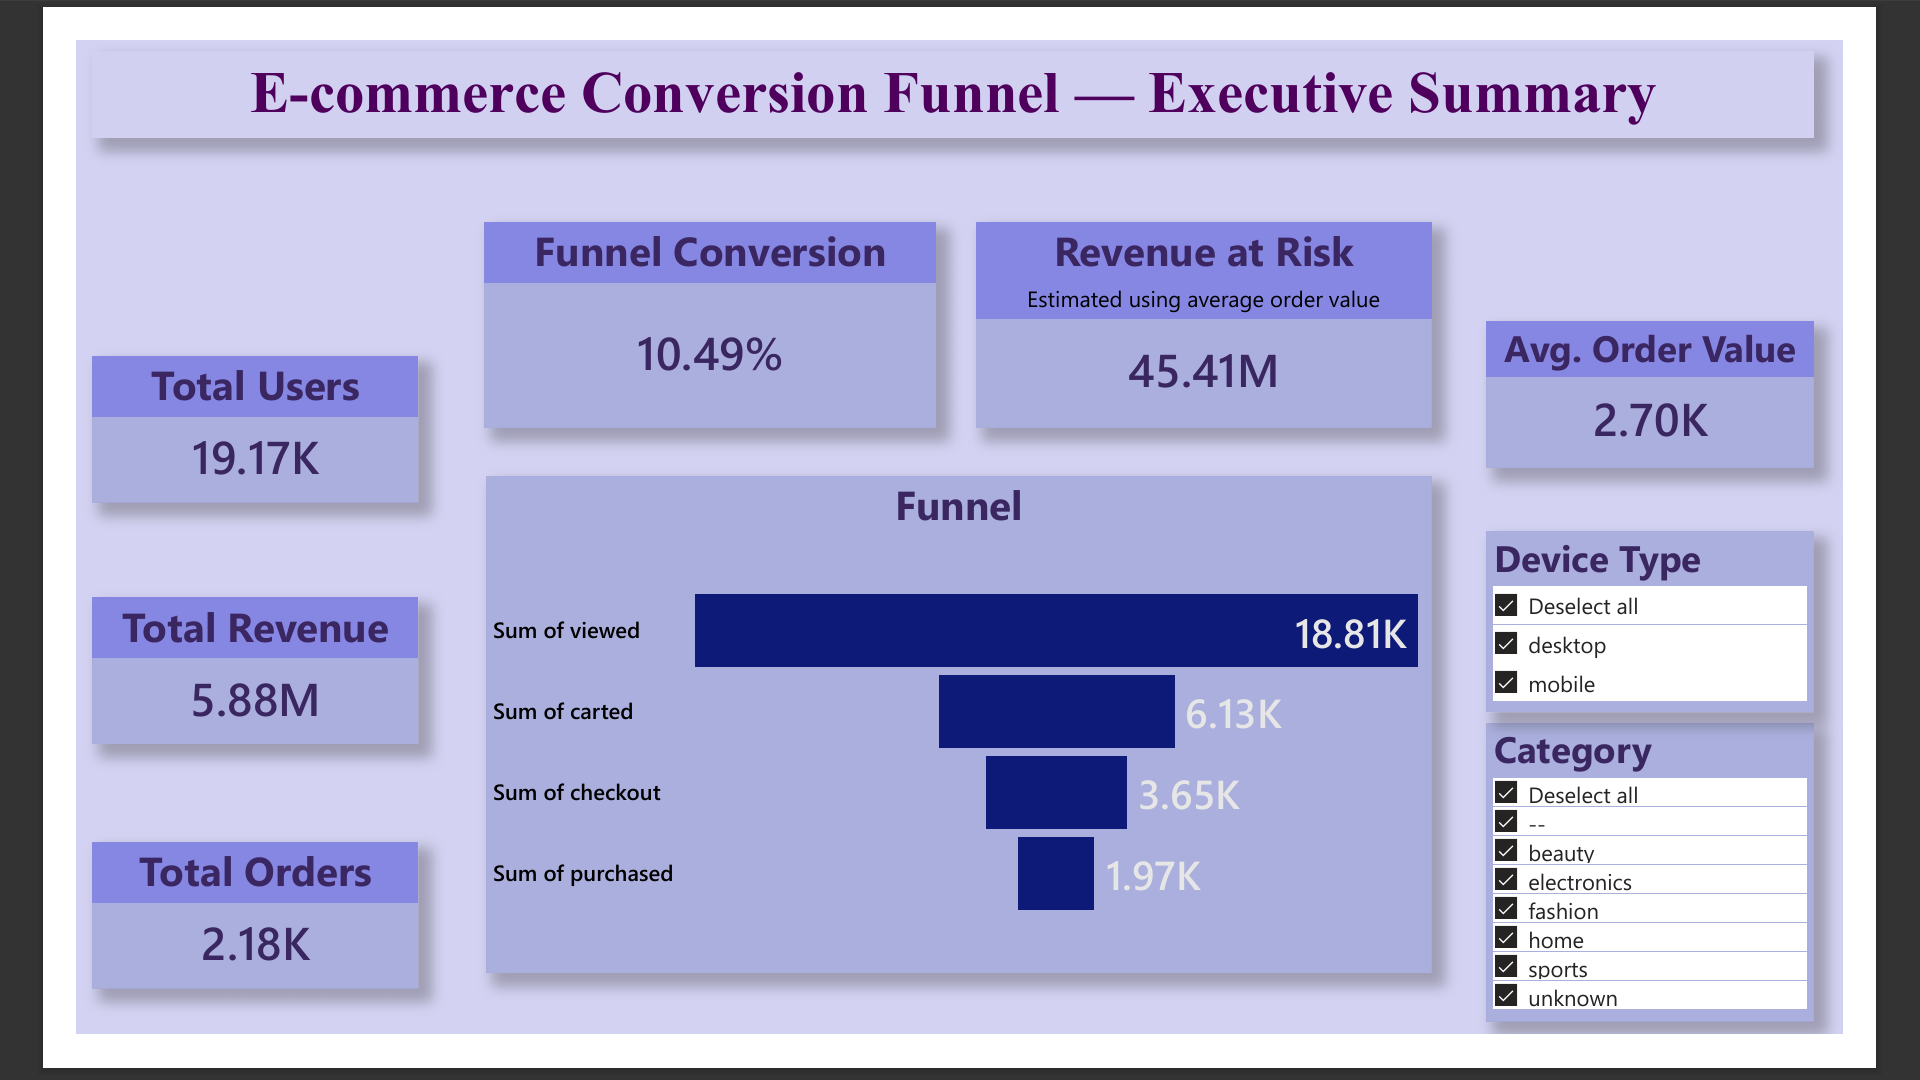

Layout of this report page (visuals, bound fields, positions):
{"tool":"powerbi","page":{"name":"Executive Summary","canvas":[1280,720],"ordinal":0},"visuals":[{"type":"card","title":"Total Users","fields":{"Values":["customers.Total Users"]},"box":[11.6,228.6,236.9,106],"z":0},{"type":"card","title":"Total Revenue","fields":{"Values":["customers.Total Revenue"]},"box":[11.6,404.2,236.9,106],"z":1000},{"type":"card","title":"Total Orders","fields":{"Values":["customers.Total Orders"]},"box":[11.6,581.4,236.9,106],"z":2000},{"type":"card","title":"Funnel Conversion","fields":{"Values":["customers.Funnel Conversion %"]},"box":[296,131.8,326.9,149.6],"z":3000},{"type":"card","title":"Revenue at Risk","fields":{"Values":["customers.Revenue at Risk"]},"box":[652.2,131.8,330.2,149.6],"z":4000},{"type":"funnel","title":"Funnel","fields":{"Y":["Sum(funnel_ordered.viewed)","Sum(funnel_ordered.carted)","Sum(funnel_ordered.checkout)","Sum(funnel_ordered.purchased)"]},"box":[296.5,316.4,685.8,359.5],"z":5000},{"type":"listSlicer","title":"Category","fields":{"Values":["products.category"]},"box":[1022,495.3,236.9,215.3],"z":6000},{"type":"listSlicer","title":"Device Type","fields":{"Values":["customers.device_type"]},"box":[1022,356.1,236.9,130.9],"z":7000},{"type":"card","title":"Avg. Order Value","fields":{"Values":["customers.AOV"]},"box":[1022,203.7,236.9,106],"z":8000},{"type":"textbox","box":[11.6,8.3,1247.3,62.9],"z":9000}]}

Visuals, with their boxes in screenshot pixels (x1, y1, x2, y2), scaled from the page's 1280x720 canvas onto the 1920x1080 screenshot:
"Total Users" card: region(17, 343, 373, 502)
"Total Revenue" card: region(17, 606, 373, 765)
"Total Orders" card: region(17, 872, 373, 1031)
"Funnel Conversion" card: region(444, 198, 934, 422)
"Revenue at Risk" card: region(978, 198, 1474, 422)
"Funnel" funnel: region(445, 475, 1473, 1014)
"Category" listSlicer: region(1533, 743, 1888, 1066)
"Device Type" listSlicer: region(1533, 534, 1888, 730)
"Avg. Order Value" card: region(1533, 306, 1888, 465)
textbox: region(17, 12, 1888, 107)
